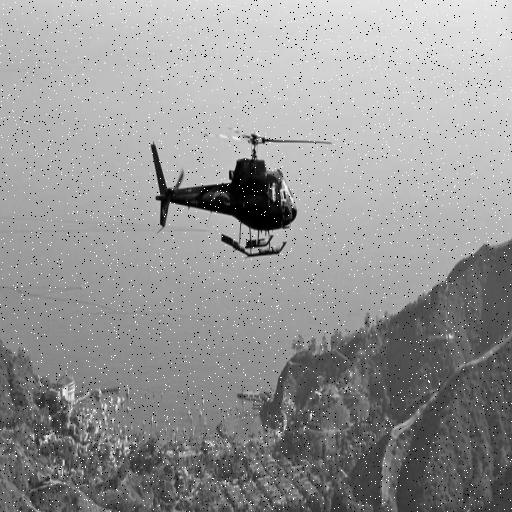helicopter: (151, 119, 338, 259)
